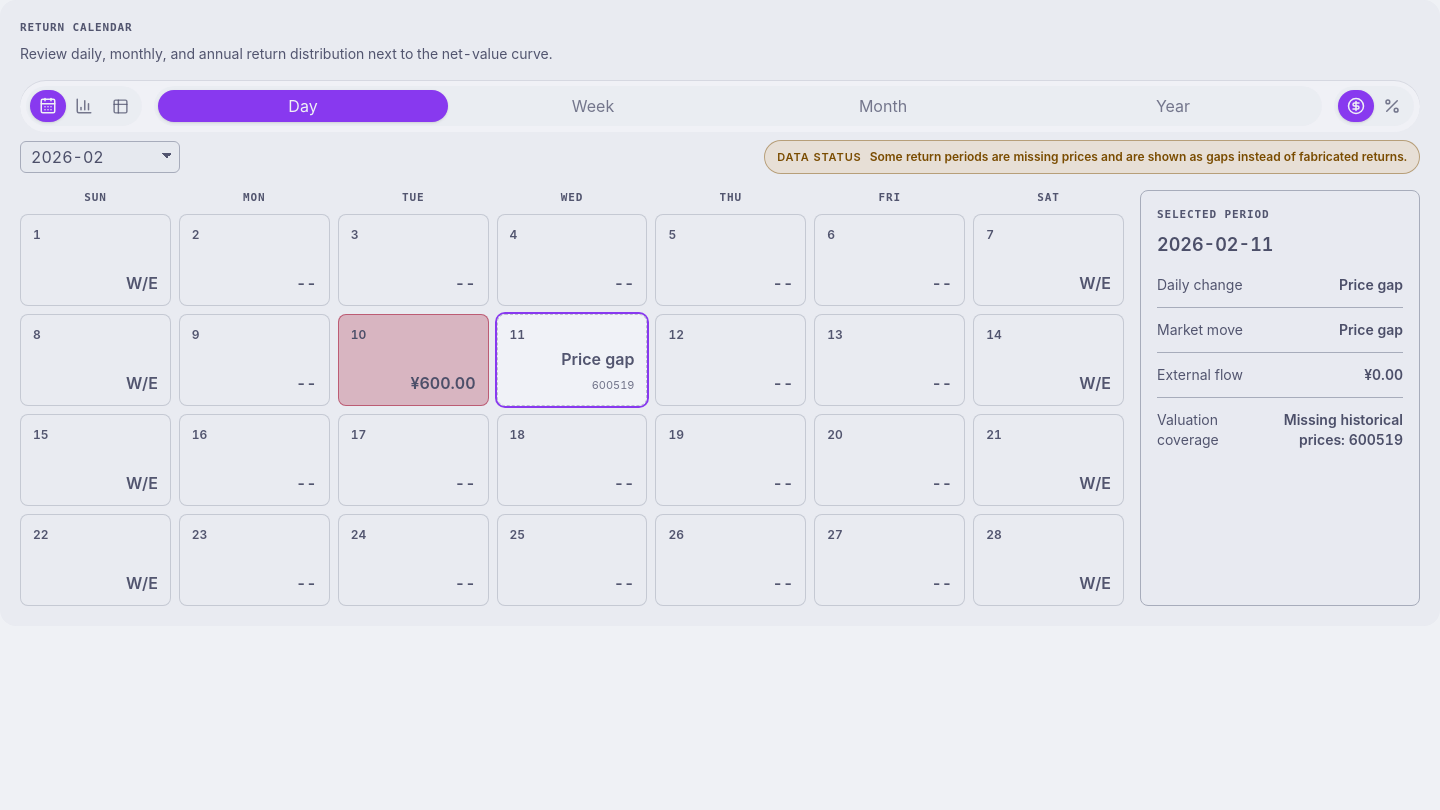
Test: renders a month calendar with selectable daily return cells by default
Expected: the text "Return calendar" is shown, 20,21 -> 132,34
Expected: the text "next to the net-value curve" is shown, 20,45 -> 552,62
Click the button named "2026-02-10 · ¥600.00" at [413, 360], box 338,314 -> 489,406
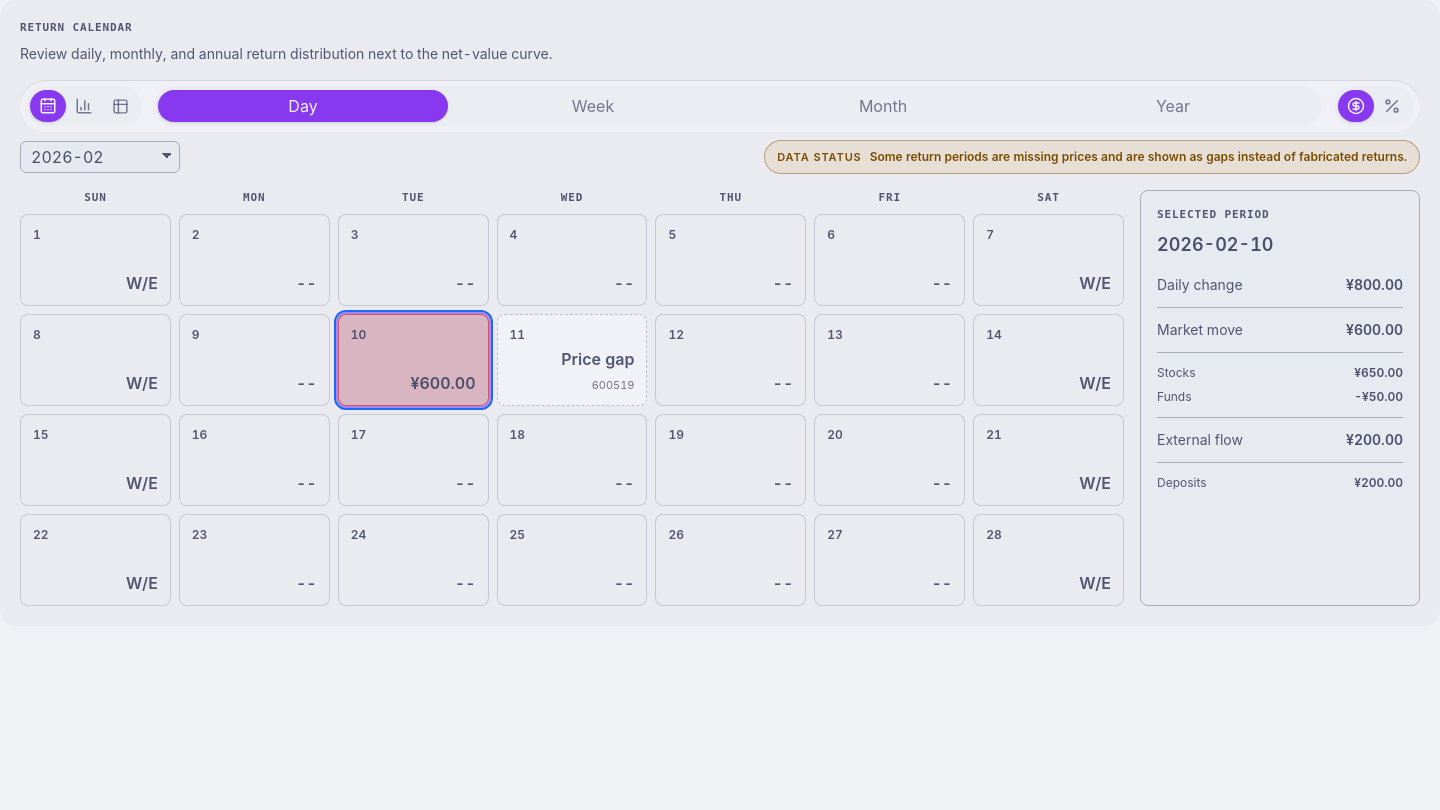
Expected: the text "2026-02-10" is shown, 1157,234 -> 1274,255
Expected: the text "¥600.00" next to "Market move" is shown, 1346,321 -> 1403,338
Expected: the text "Stocks" is shown, 1157,365 -> 1196,381
